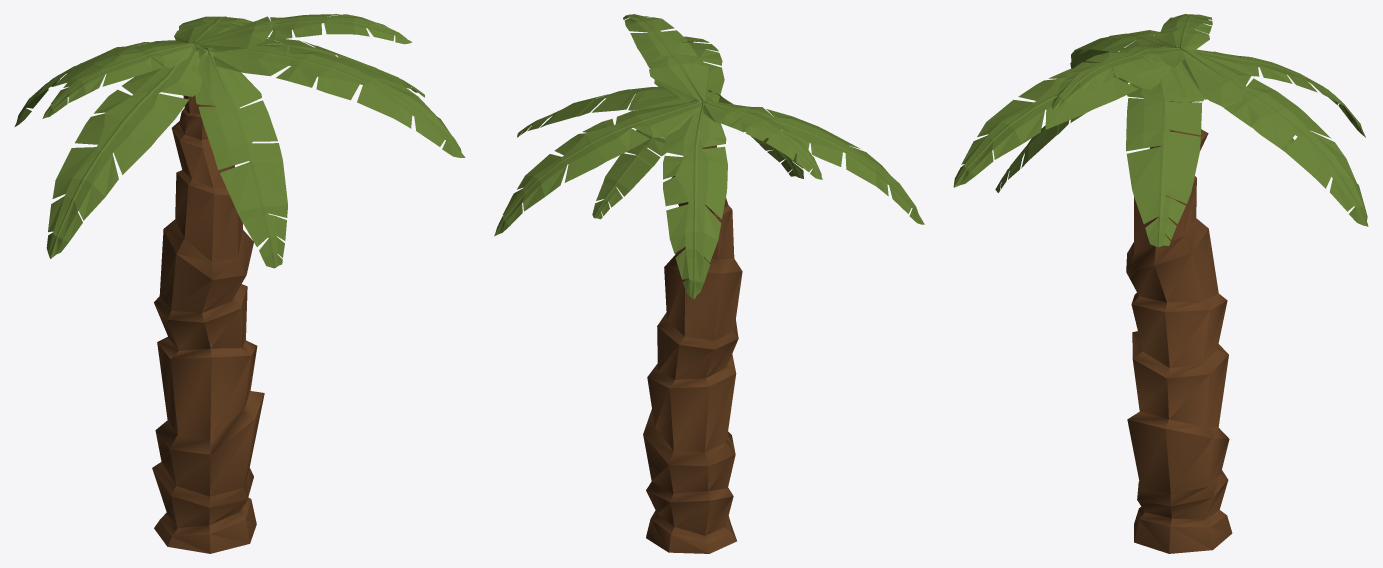
The model's file is palm.fbx.
3 views of the same model, side by side, from view 1: azimuth 30°, elevation 25°; view 2: azimuth 150°, elevation 25°; view 3: azimuth 270°, elevation 25° (orthographic). The views are drawn at different scales.
Visible parts, largest first — view 1: Palm.005, Palm.005_Palm Material Baked_0.001; view 2: Palm.005, Palm.005_Palm Material Baked_0.001; view 3: Palm.005, Palm.005_Palm Material Baked_0.001.
Part boxes in pixels (left/top/right/bottom): Palm.005: left=14, top=14, right=465, bottom=268; Palm.005_Palm Material Baked_0.001: left=152, top=95, right=264, bottom=553; Palm.005: left=494, top=14, right=924, bottom=299; Palm.005_Palm Material Baked_0.001: left=643, top=145, right=742, bottom=553; Palm.005: left=953, top=14, right=1368, bottom=247; Palm.005_Palm Material Baked_0.001: left=1126, top=101, right=1232, bottom=553.
Size of the model in its own units: 1399 by 1671 by 1238.
